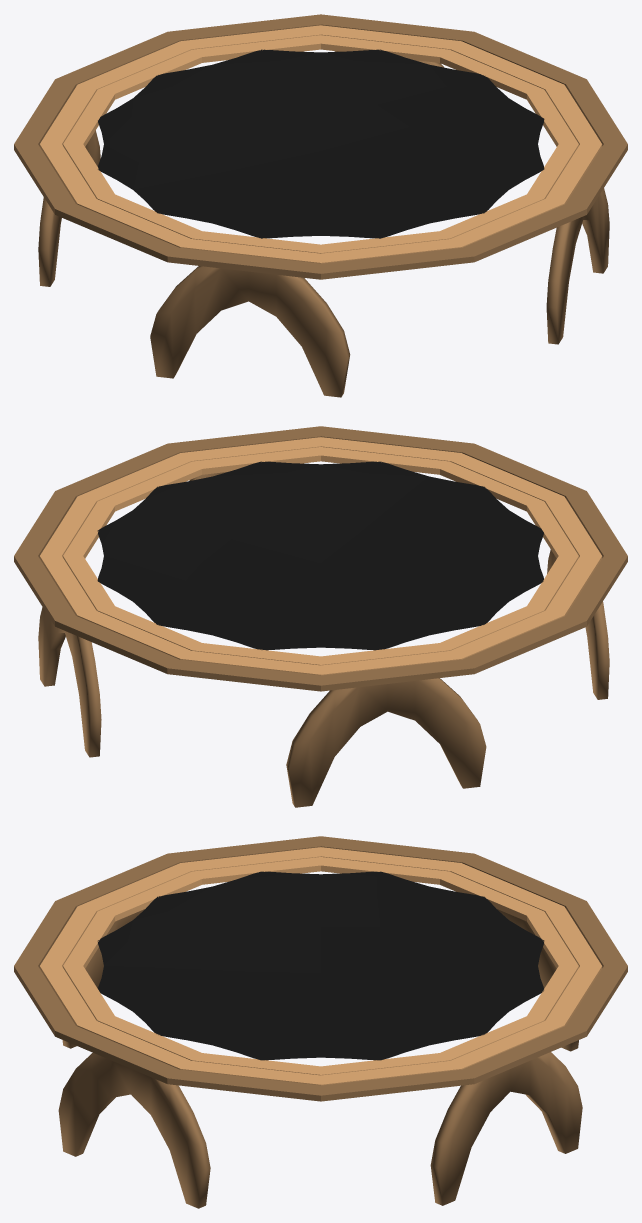
The model's file is wooden_trampoline.gltf.
3 renders of one model, top to bottom at view 1: azimuth 30°, elevation 25°; view 2: azimuth 150°, elevation 25°; view 3: azimuth 270°, elevation 25°, orthographic.
Visible parts, largest first — view 1: wooden_trampoline; view 2: wooden_trampoline; view 3: wooden_trampoline.
Boxes of the visible parts, bbox=[...] form: wooden_trampoline: bbox=[14, 14, 627, 397]; wooden_trampoline: bbox=[14, 426, 627, 807]; wooden_trampoline: bbox=[14, 836, 627, 1208].
Size of the model in its own units: 4 by 0.9544 by 4.
